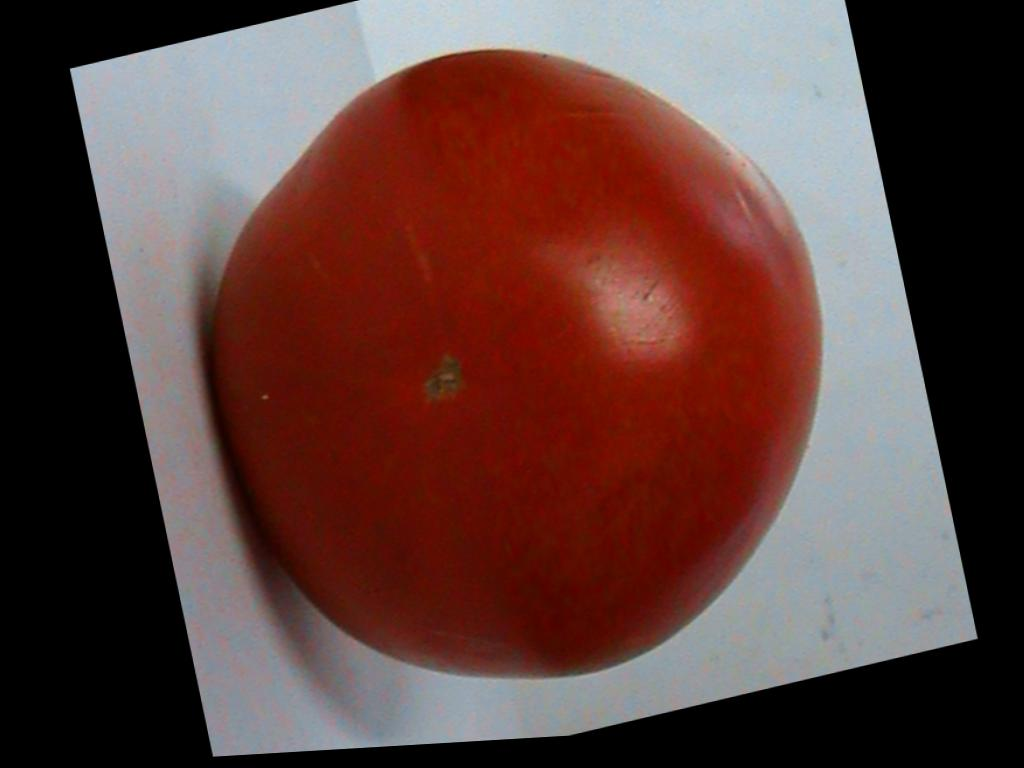surface_damage: (424, 354, 464, 399)
tomato: (214, 50, 821, 678)
